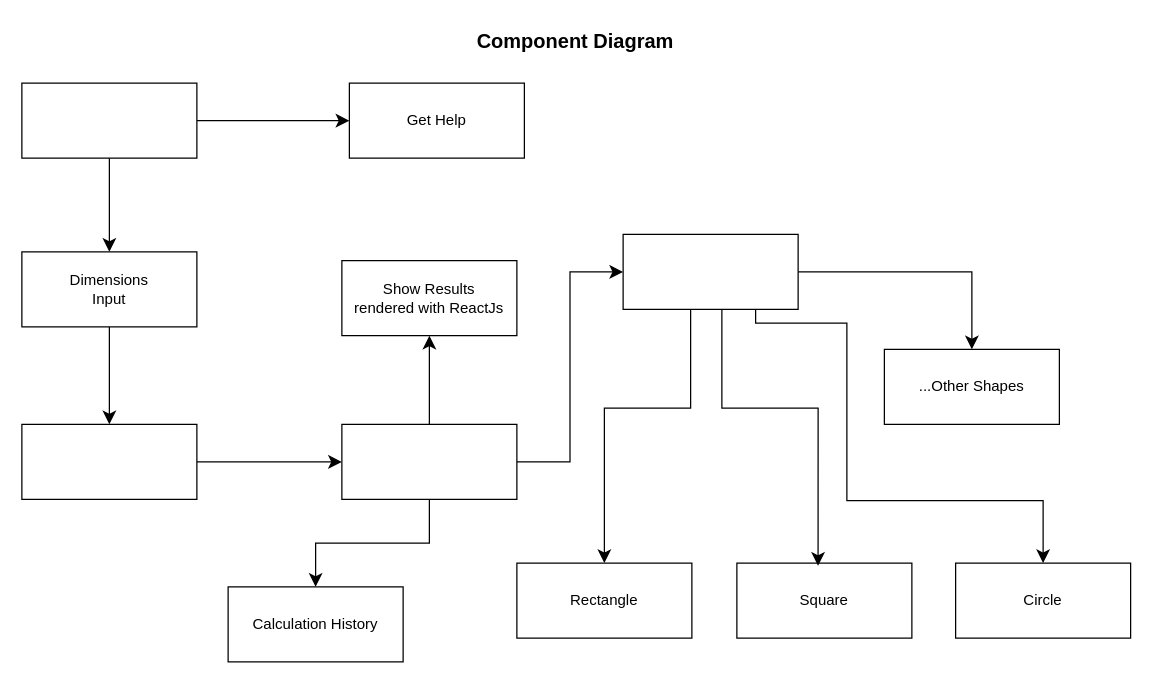
This 1153x684 diagram has some shape labels left out. Each missing label, with the centre of its shape:
Calculator: the point at 429,461
Shape Factory: the point at 710,271
Shape Interface: the point at 109,461
User: the point at 109,120
